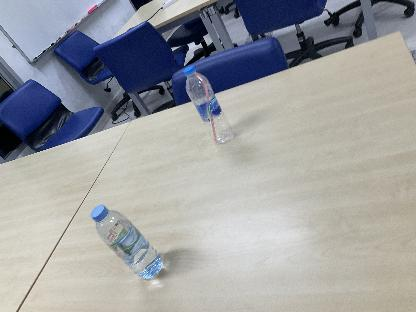Plastic Bottle: (91, 204, 164, 280), (183, 64, 235, 146)
